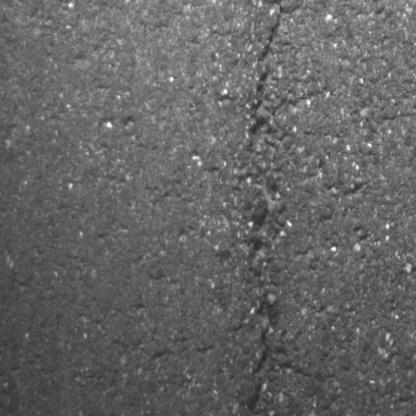Cracks: (231, 0, 295, 416)
